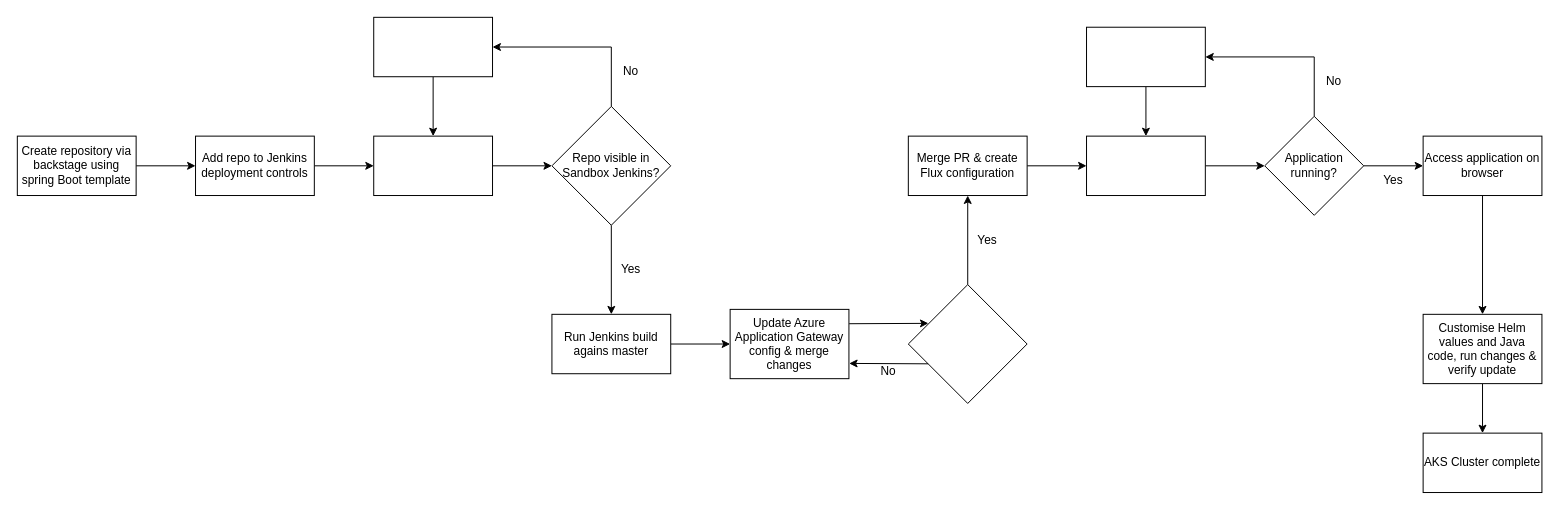
Image size: 1559x510. Some labels were removed from this diagram. The box of each missing label's shape, as (x1, y1, x2, y2) in pixels:
Check HelmRelease and pod status: (1086, 135, 1205, 196)
PR approved and build passed?: (907, 284, 1027, 403)
Run Seed job: (373, 16, 493, 77)
Scan Sandbox Jenkins org: (373, 135, 493, 196)
Troubleshoot deployment: (1086, 26, 1205, 87)
